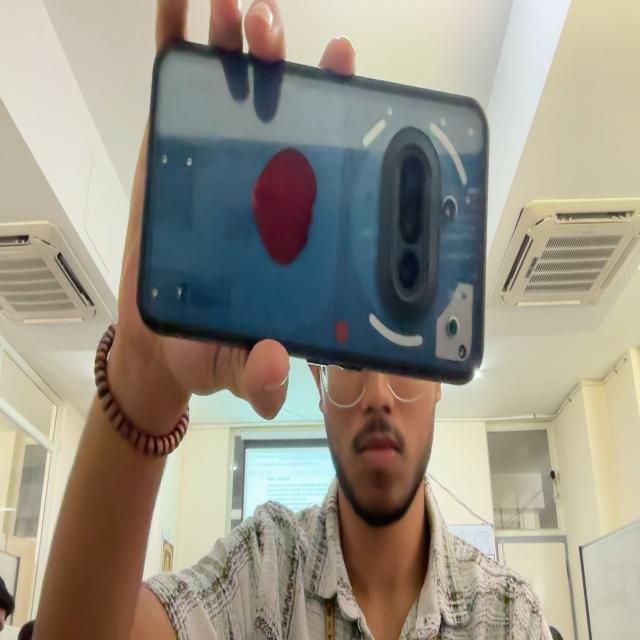Useful: (137, 43, 488, 383)
